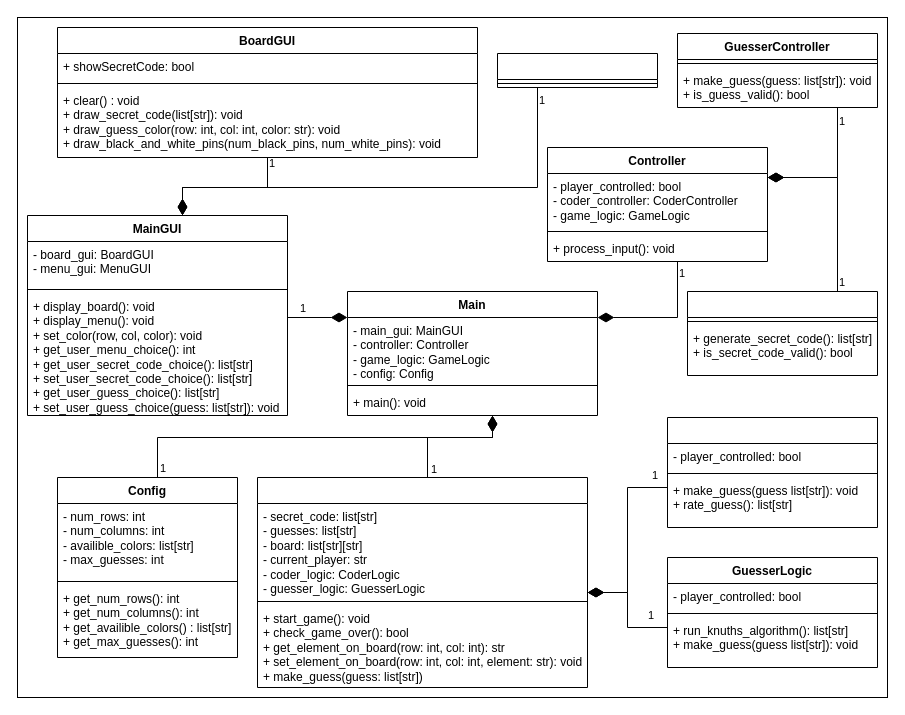
Image size: 905x715. Some labels were removed from this diagram. The shapes that lost their labels are listed below. From the top down, each one's box as (x1, y1, x2, y2) in pixels, then its label:
(496, 52, 658, 88): MenuGUI
(686, 290, 878, 376): CoderController
(666, 416, 878, 528): CoderLogic
(256, 476, 588, 688): GameLogic
